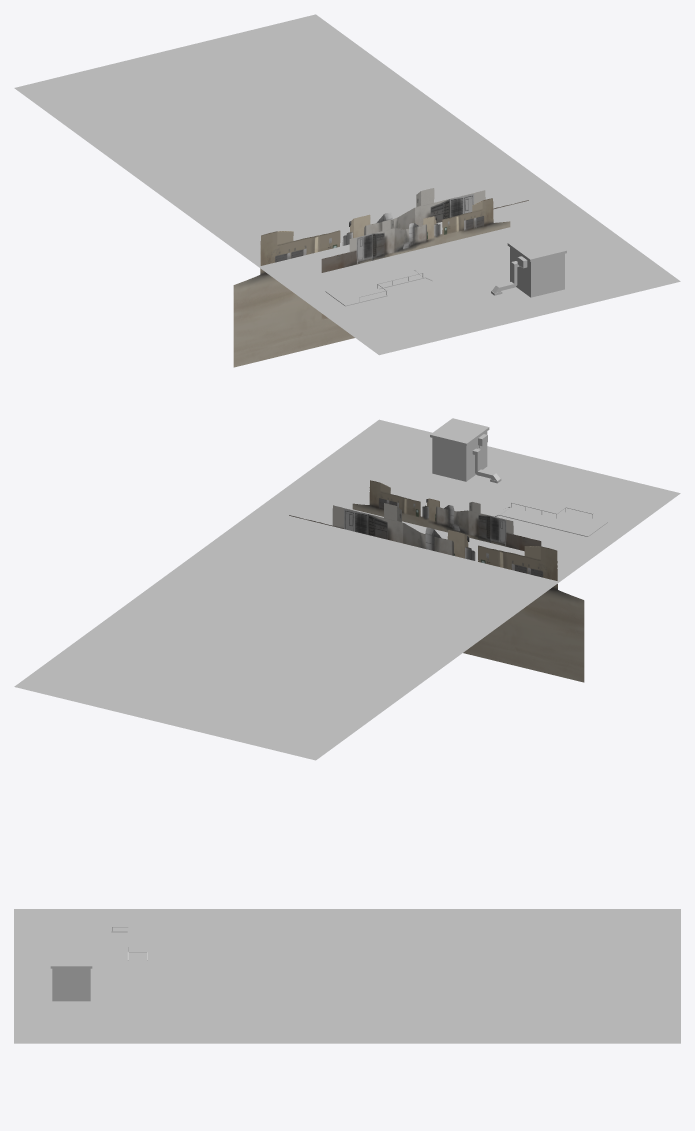
3 views of the same model, one above another, from view 1: azimuth 30°, elevation 25°; view 2: azimuth 150°, elevation 25°; view 3: azimuth 270°, elevation 25° (orthographic). The views are drawn at different scales.
Visible parts, largest first — view 1: Ground_plane, pPlane2, pPlane1, building, rails; view 2: Ground_plane, pPlane2, pPlane1, building, rails; view 3: Ground_plane, building, rails.
Boxes of the visible parts, x1,y1,x2,y2 form: Ground_plane: (14, 14, 680, 355); pPlane2: (233, 188, 528, 367); pPlane1: (321, 198, 510, 319); building: (491, 234, 566, 297); rails: (325, 269, 432, 306); Ground_plane: (14, 419, 680, 760); pPlane2: (289, 503, 584, 682); pPlane1: (352, 480, 541, 551); building: (430, 418, 501, 483); rails: (494, 502, 607, 536); Ground_plane: (14, 909, 680, 1043); building: (50, 950, 92, 1001); rails: (111, 912, 147, 960).
Size of the model in its own units: 77.87 by 48.85 by 151.
